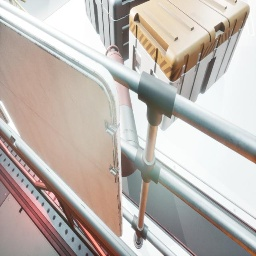NitrogenTank ,: (105, 45, 140, 177)
